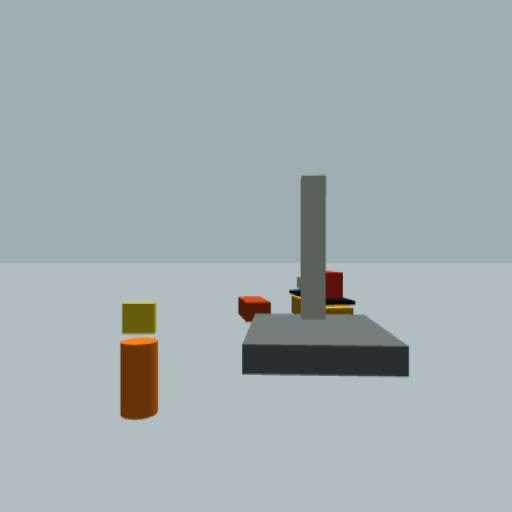buoy: (120, 300, 158, 419)
debris_container: (236, 294, 272, 322)
platform: (241, 172, 412, 378)
